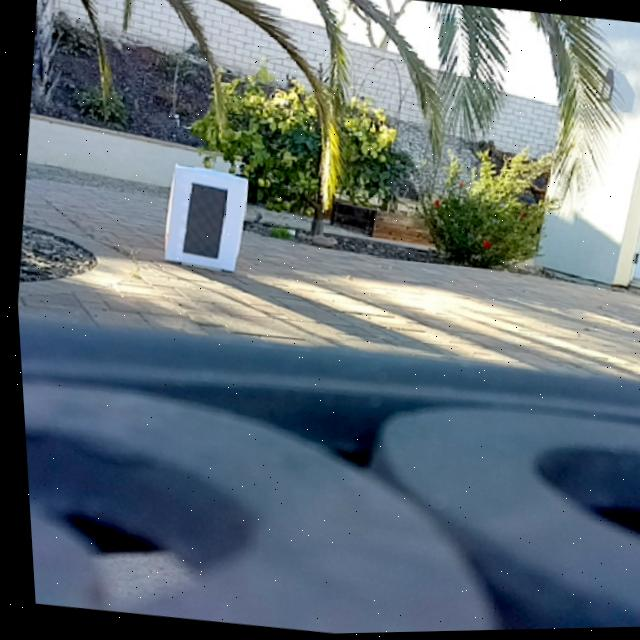led: (175, 180, 230, 261)
